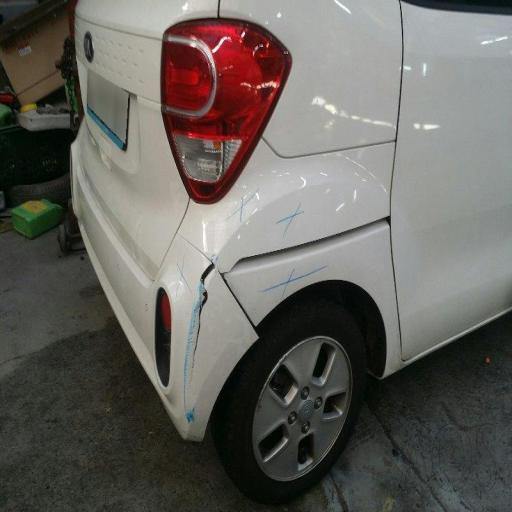broken: (158, 127, 409, 364)
dent: (244, 151, 324, 291)
